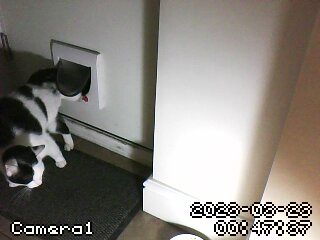bad: (2, 62, 89, 200)
